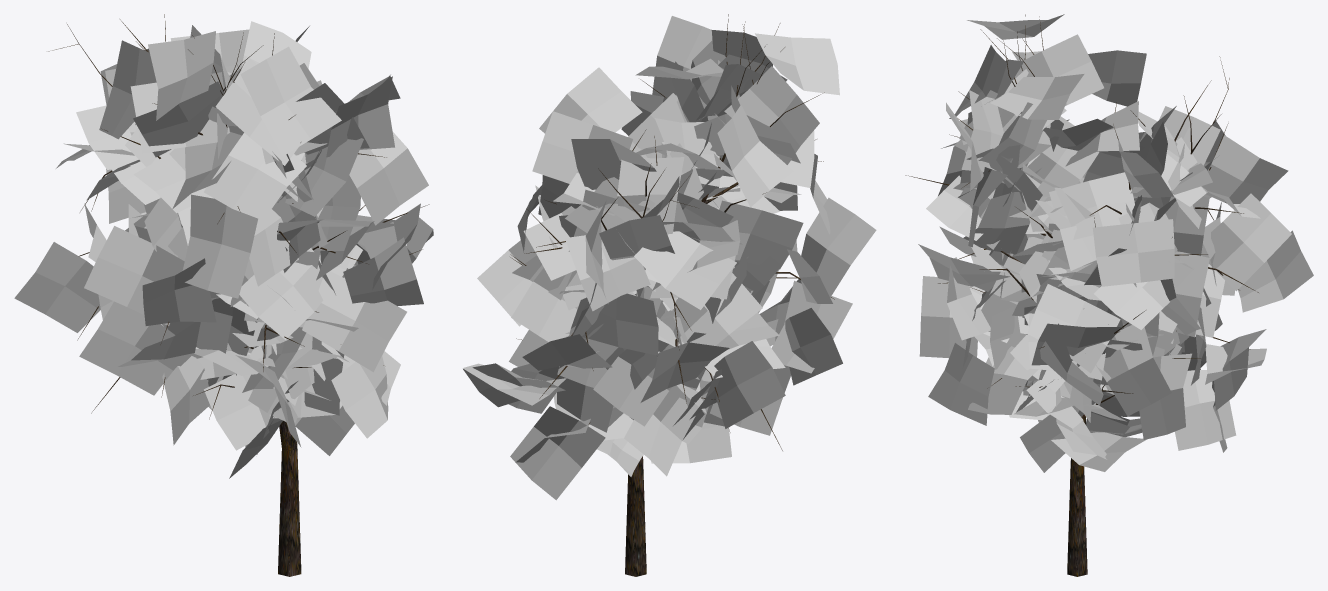
Rendered from Puun1.fbx.
The picture shows the model from 3 angles, left to right: view 1: azimuth 30°, elevation 25°; view 2: azimuth 150°, elevation 25°; view 3: azimuth 270°, elevation 25°; orthographic projection. The views are drawn at different scales.
Parts seen in each view (by area): view 1: Puun1; view 2: Puun1; view 3: Puun1.
Boxes of the visible parts, bbox=[...] form: Puun1: bbox=[14, 14, 433, 576]; Puun1: bbox=[462, 14, 876, 576]; Puun1: bbox=[905, 14, 1313, 576].
Bounding box in the file's own units: 10.49 × 15.58 × 11.34.
